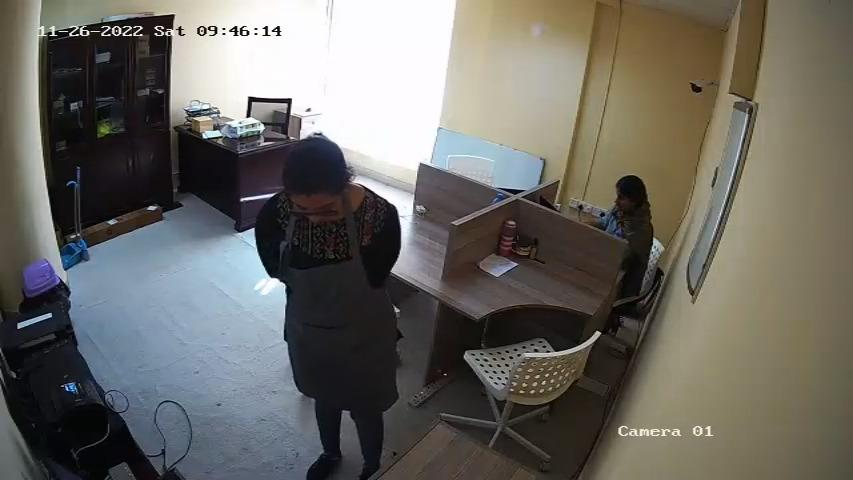apron: (283, 215, 391, 391)
